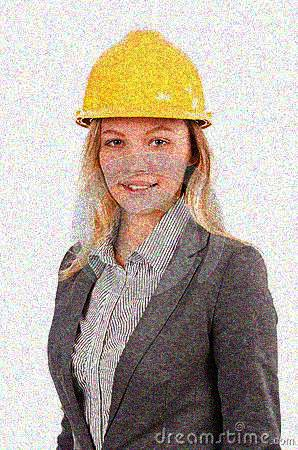helmet: (77, 28, 213, 216)
